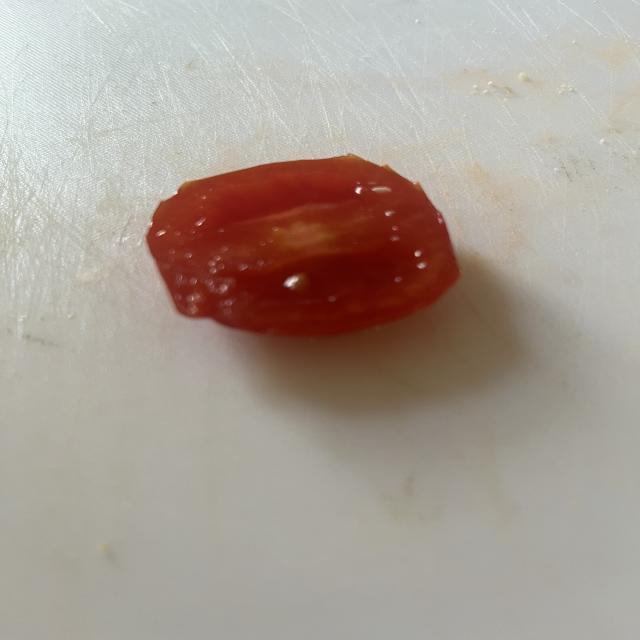sliced_tomato: (147, 155, 459, 336)
